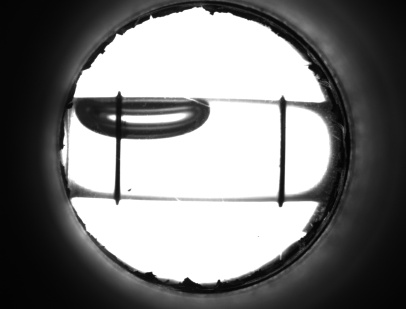line: (271, 113, 290, 189), (110, 145, 124, 187)
